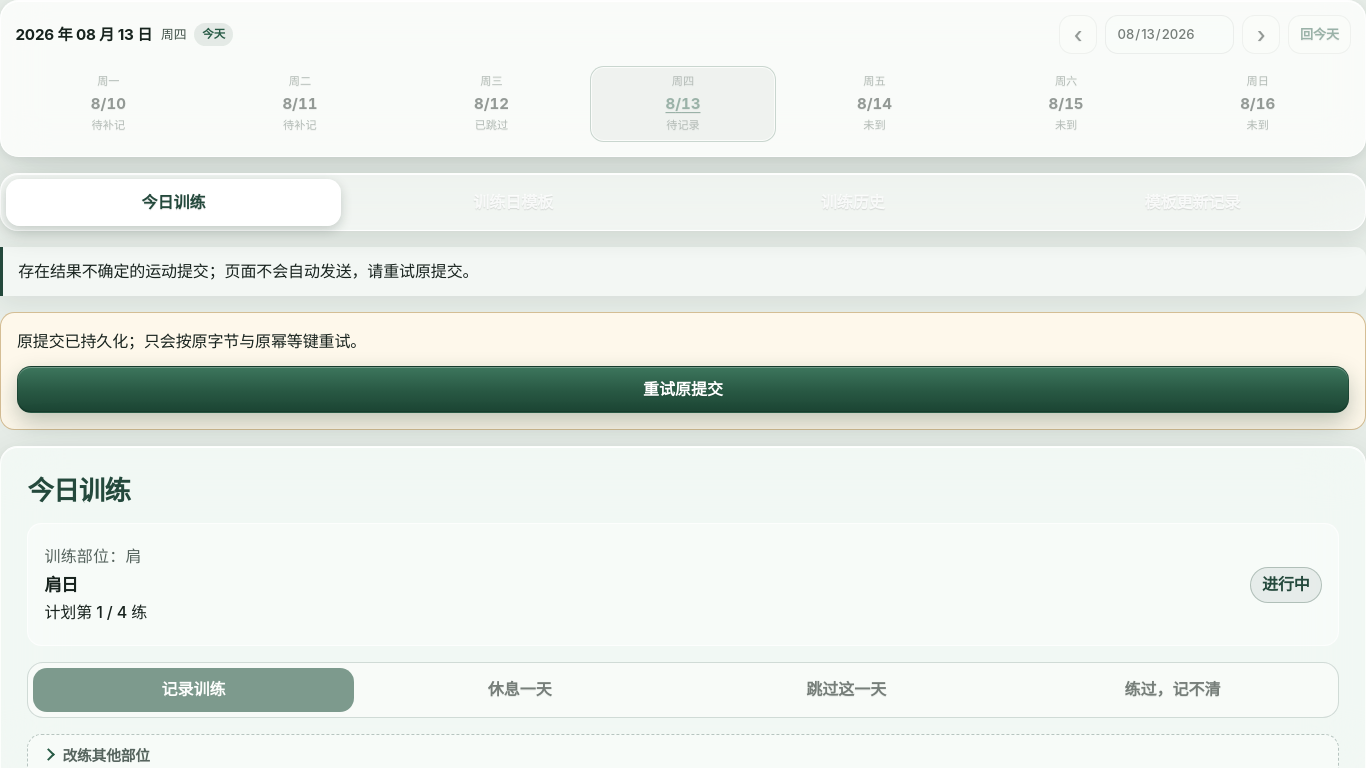
Test: ManualExerciseWorkspace › restores uncertain bytes without auto-POST, retries them exactly, and freezes failures
Click the button "重试原提交" at (683, 389), box [17,366,1349,413]
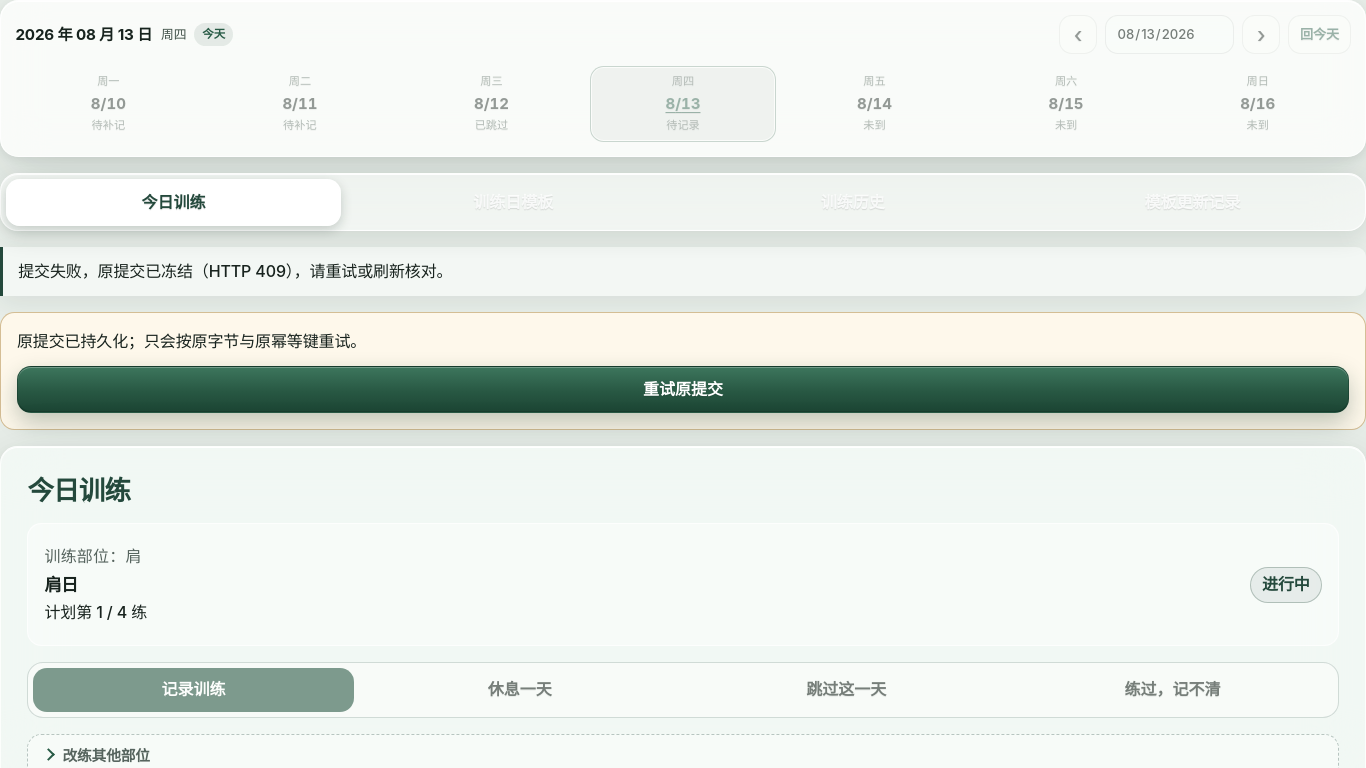
Expected: the text "提交失败，原提交已冻结（HTTP 409），请重试或刷新核对。" is shown, [0,247,1365,296]
